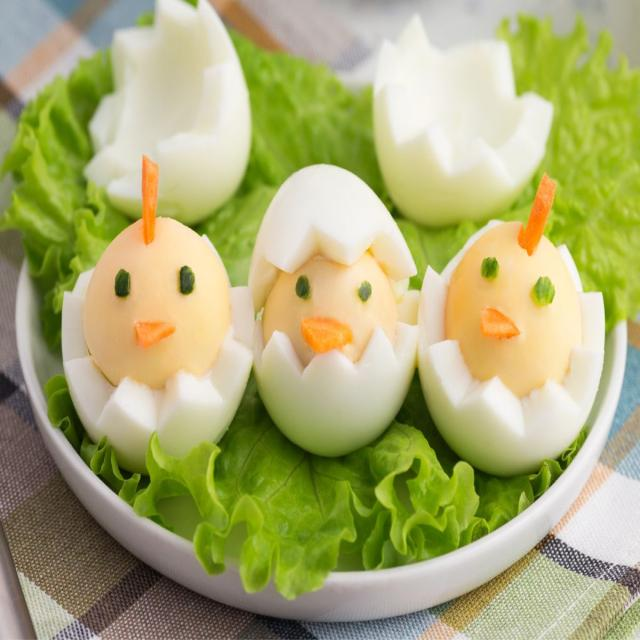huevos: (55, 199, 260, 469)
